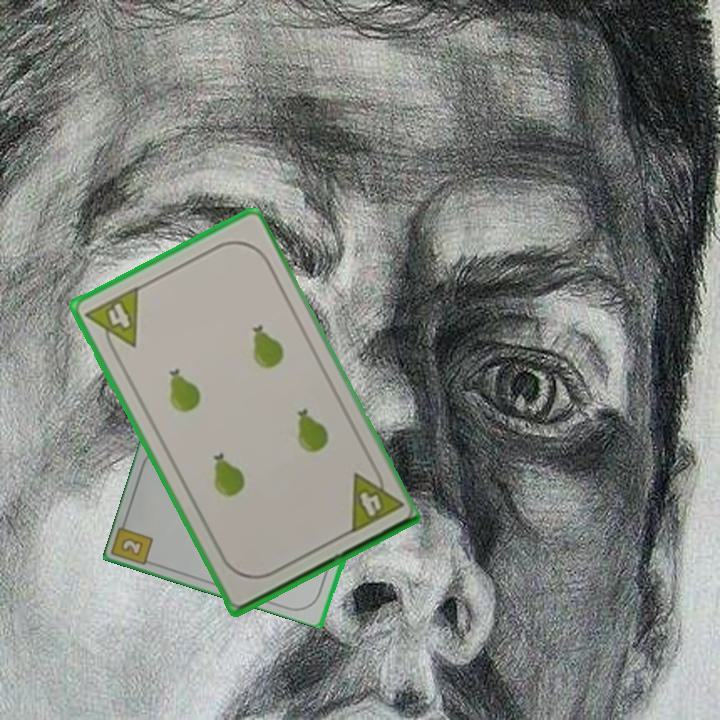2b: (117, 534, 146, 559)
4p: (82, 282, 142, 360), (344, 461, 405, 537)
